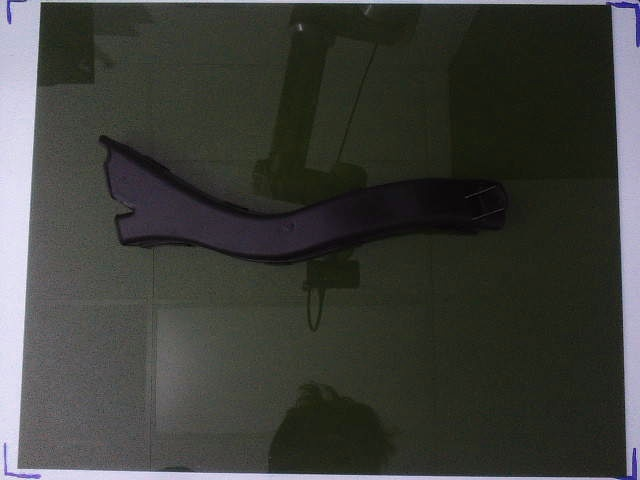887_B-Top: (98, 134, 509, 263)
